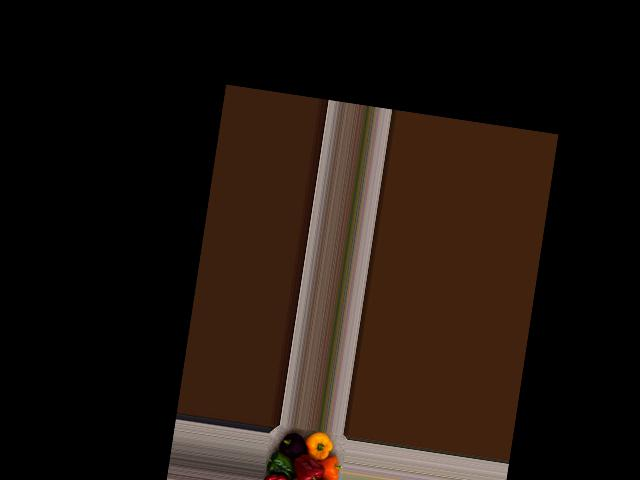bell_pepper: (270, 431, 309, 465)
